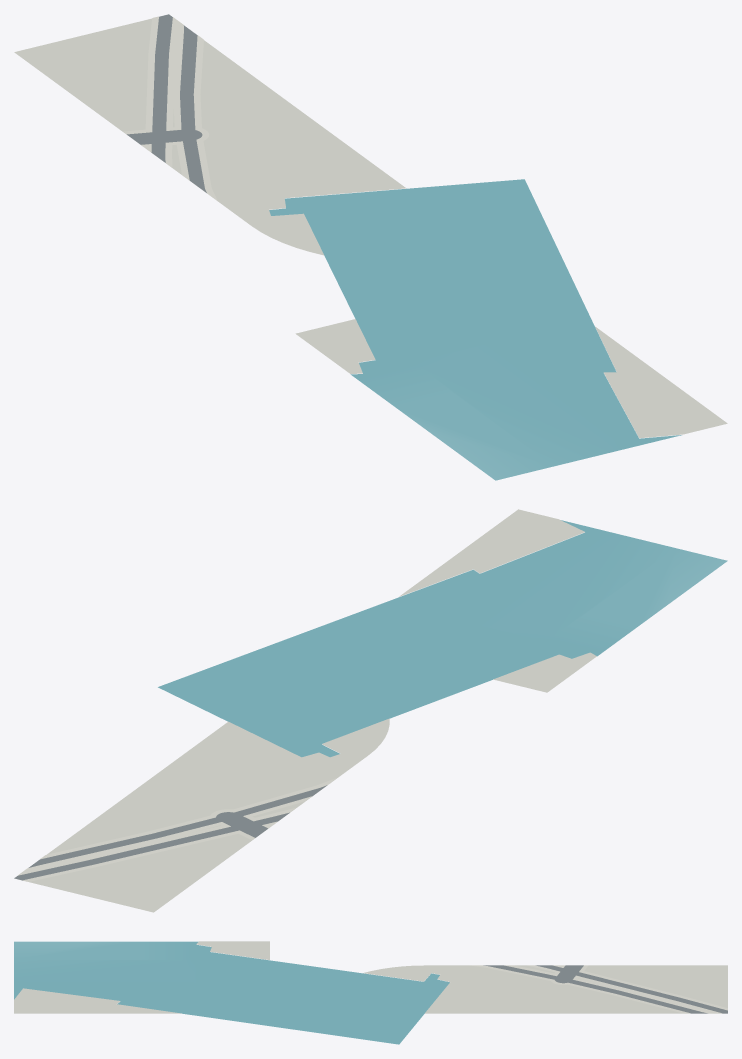
3 renders of one model, top to bottom at view 1: azimuth 30°, elevation 25°; view 2: azimuth 150°, elevation 25°; view 3: azimuth 270°, elevation 25°, orthographic. The views are drawn at different scales.
Parts seen in each view (by area): view 1: city; view 2: city; view 3: city.
Part boxes in pixels (bbox=[...]): city: bbox=[14, 14, 727, 480]; city: bbox=[14, 509, 727, 912]; city: bbox=[14, 941, 727, 1044].
Bounding box in the file's own units: 171 × 0.4 × 500.
